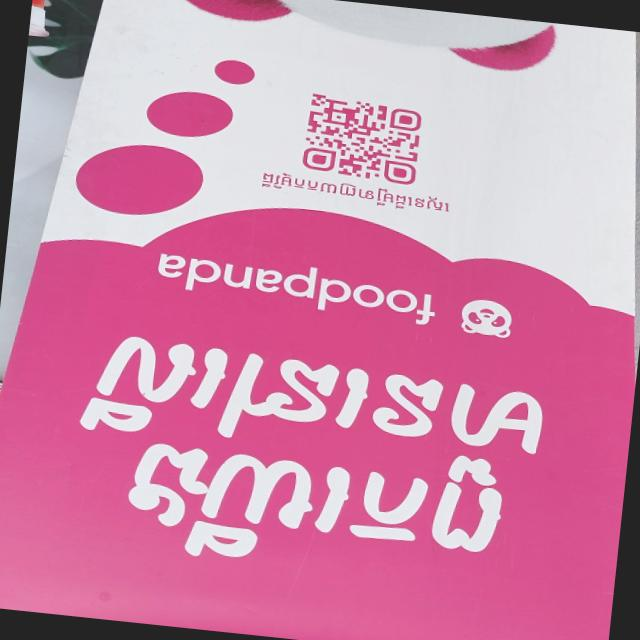Yolov11_80vkh: (60, 323, 558, 478), (101, 416, 536, 593), (254, 163, 458, 223)
